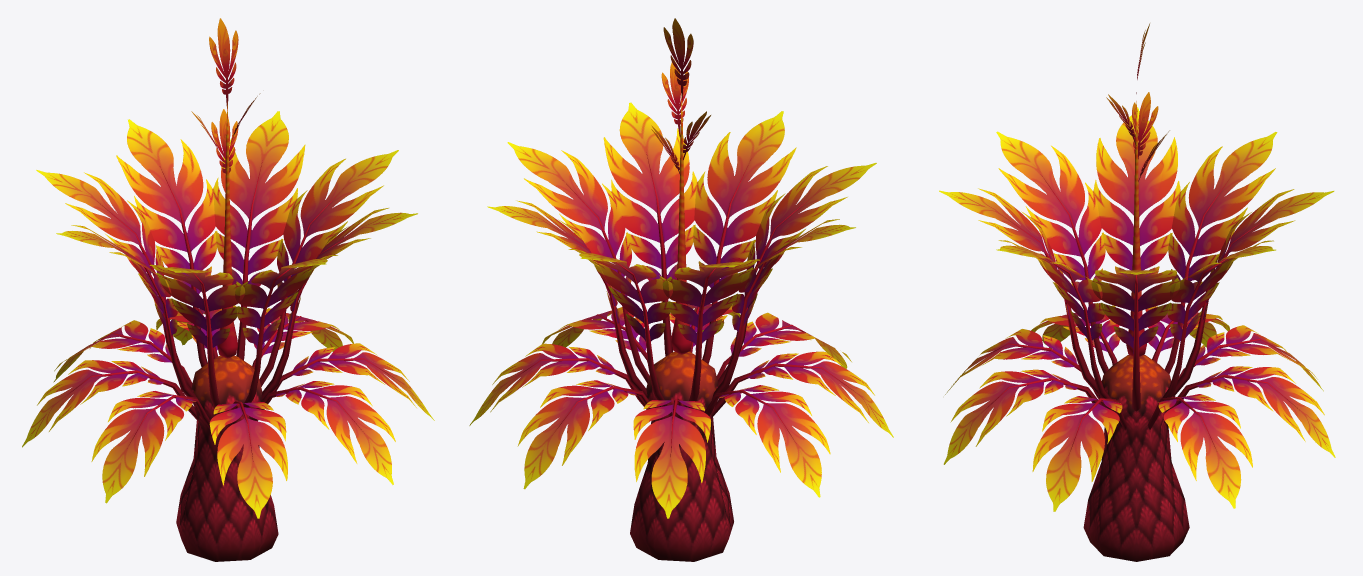
The model's file is Red_Tree_04a.FBX.
3 renders of one model, left to right at view 1: azimuth 30°, elevation 25°; view 2: azimuth 150°, elevation 25°; view 3: azimuth 270°, elevation 25°, orthographic.
Parts seen in each view (by area): view 1: Red_Tree_04a; view 2: Red_Tree_04a; view 3: Red_Tree_04a.
Boxes of the visible parts, left/top/right/bottom form: Red_Tree_04a: left=22, top=18, right=434, bottom=561; Red_Tree_04a: left=469, top=18, right=893, bottom=561; Red_Tree_04a: left=939, top=23, right=1335, bottom=561.
Bounding box in the file's own units: 266 × 363 × 268.
